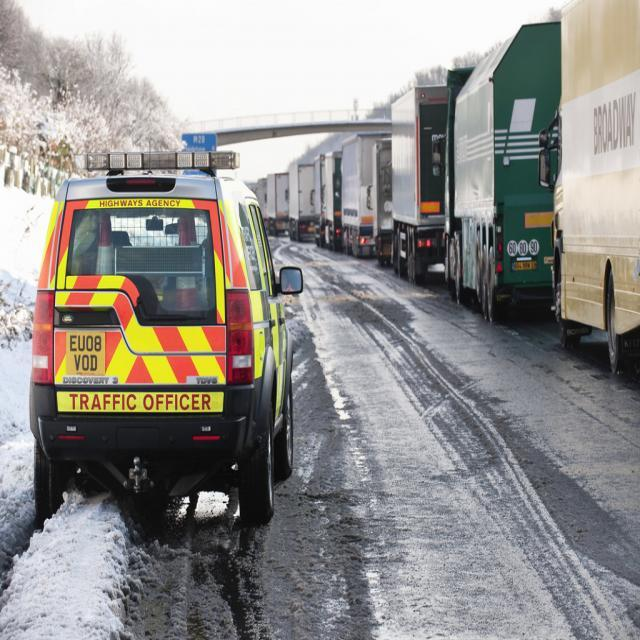bicycle: (434, 15, 572, 338), (534, 0, 640, 386), (386, 82, 450, 290), (334, 130, 372, 260), (364, 134, 393, 272), (310, 144, 340, 253), (284, 158, 316, 240), (264, 170, 289, 242)
